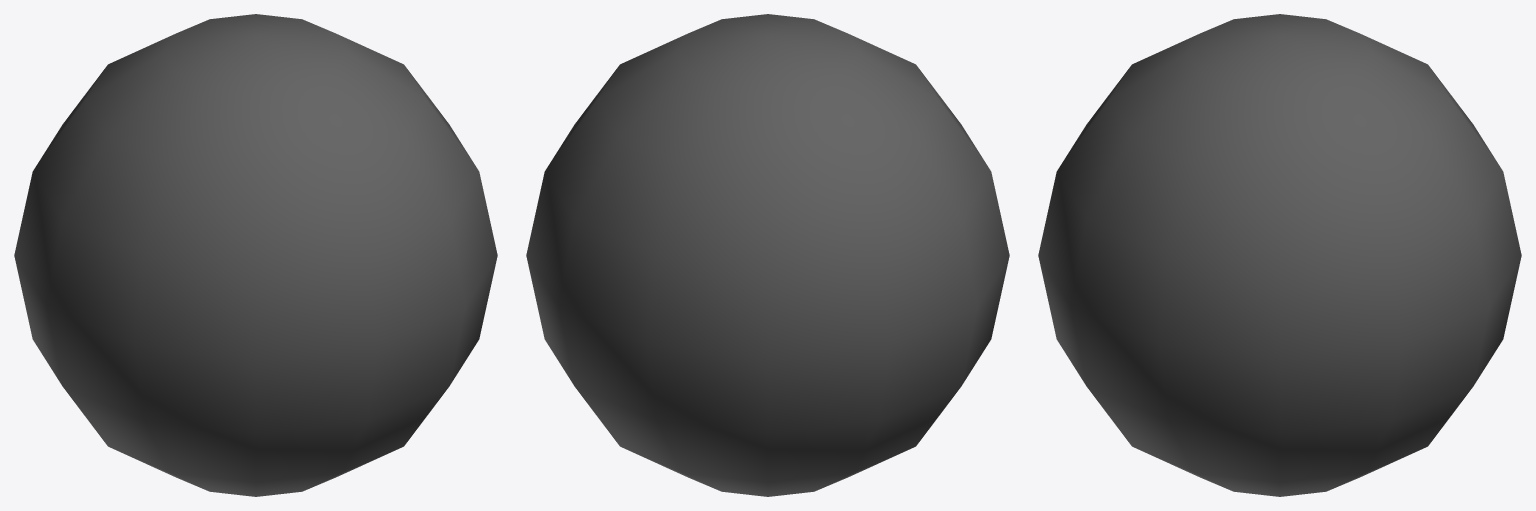
Rendered from bullet.obj.
3 views of the same model, side by side, from view 1: azimuth 30°, elevation 25°; view 2: azimuth 150°, elevation 25°; view 3: azimuth 270°, elevation 25° (orthographic).
Visible parts, largest first — view 1: Sphere; view 2: Sphere; view 3: Sphere.
Part boxes in pixels (left/top/right/bottom): Sphere: left=14, top=14, right=497, bottom=496; Sphere: left=526, top=14, right=1009, bottom=496; Sphere: left=1038, top=14, right=1521, bottom=496.
Size of the model in its own units: 0.05 by 0.05 by 0.05.
Materials: 1 (1 with a texture image).
